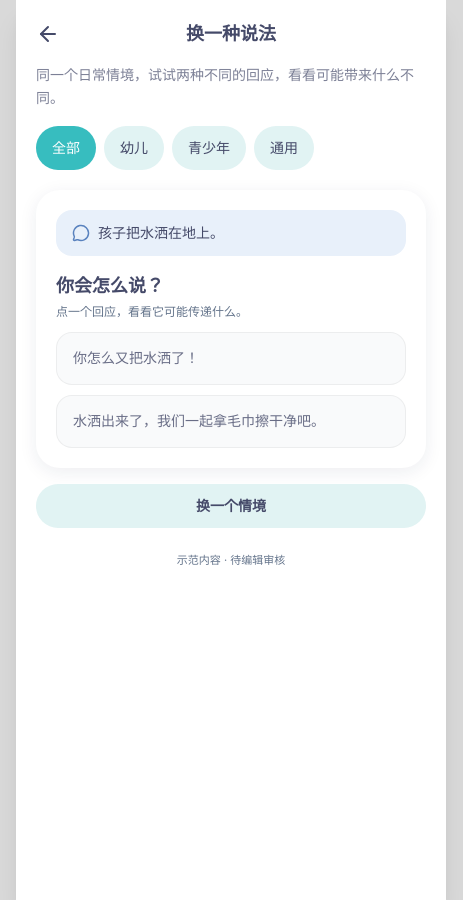
Test: LanguageLab page › cycles to another scenario on shuffle
The image size is (463, 900).
Expected: the text "孩子把水洒在地上。" is shown, [98,222,224,244]
What coordinates should you click on to do the following:
click the button "换一个情境"
I would click on:
 (231, 506)
Its box is [36,484,426,528].
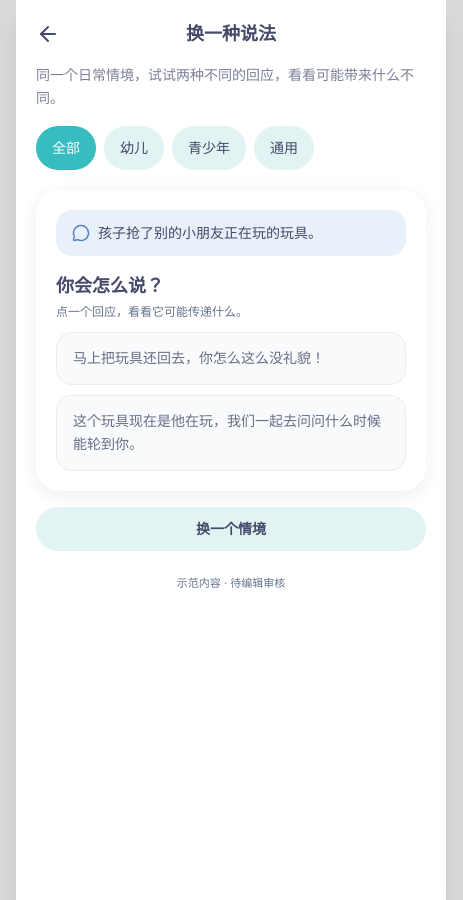
Result: the text "孩子抢了别的小朋友正在玩的玩具。" is shown at [98,222,322,244]
